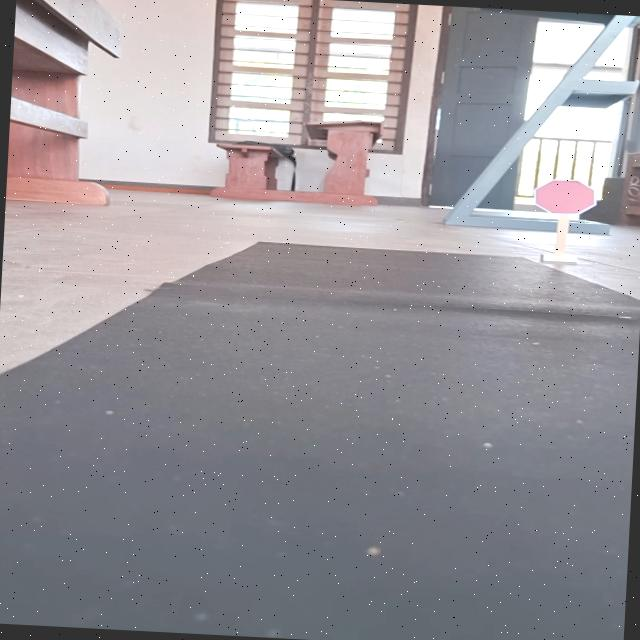Stop: (532, 177, 600, 216)
